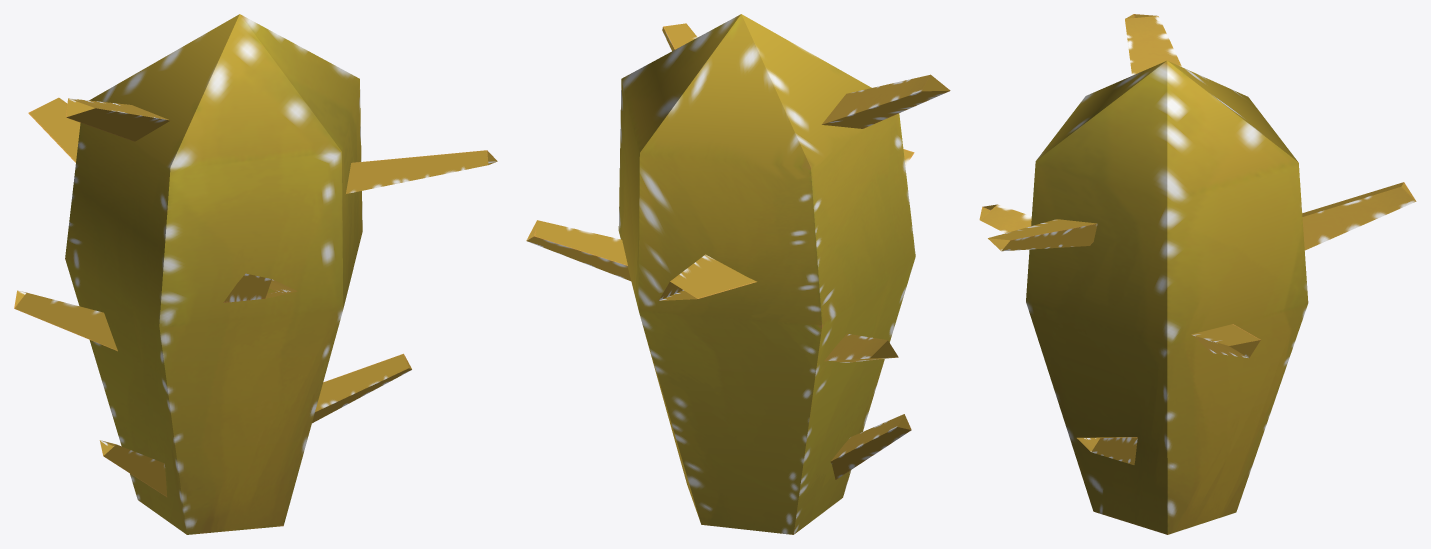
Rendered from desert-cactus2-2.fbx.
3 renders of one model, left to right at view 1: azimuth 30°, elevation 25°; view 2: azimuth 150°, elevation 25°; view 3: azimuth 270°, elevation 25°, orthographic. The views are drawn at different scales.
Visible parts, largest first — view 1: polySurface111; view 2: polySurface111; view 3: polySurface111.
Boxes of the visible parts, x1,y1,x2,y2 form: polySurface111: (14,14,497,534); polySurface111: (526,14,950,534); polySurface111: (979,14,1416,534).
Bounding box in the file's own units: 40.08 × 51.18 × 44.99.
1 material, 1 textured.
